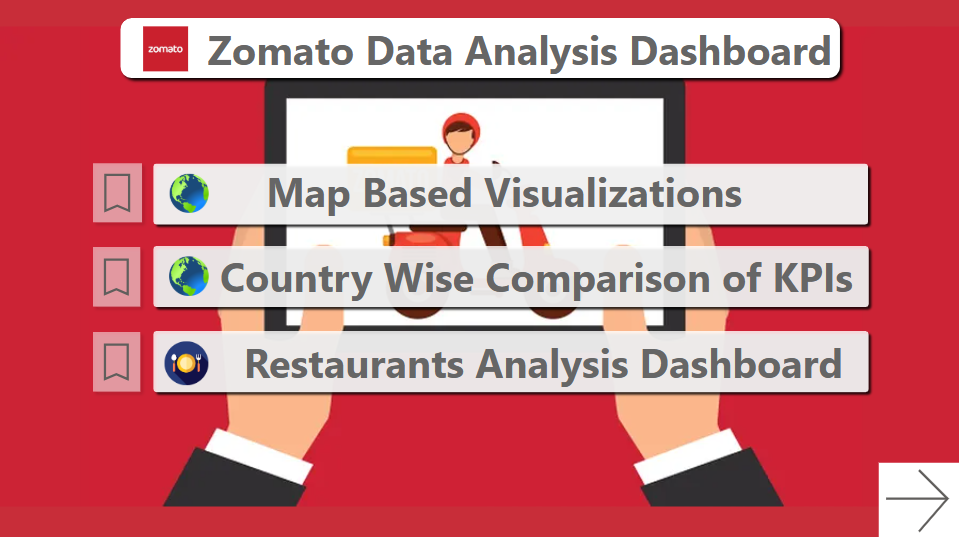

The page's visual inventory and layout, read from the dashboard file:
{"tool":"powerbi","page":{"name":"Main Page","canvas":[1280,720],"ordinal":0},"visuals":[{"type":"group","id":"g1","title":"Group 1","box":[150.9,17.3,977,97.4],"z":0},{"type":"shape","box":[150.9,17.3,977,97.4],"z":0,"group":"g1"},{"type":"group","id":"g2","title":"Group 4","box":[270.3,25.9,853.5,86.4],"z":1000,"group":"g1"},{"type":"shape","box":[196,211.4,968.3,96.7],"z":1000,"group":"g5"},{"type":"shape","box":[196.1,321.1,969.3,96.6],"z":1000,"group":"g4"},{"type":"shape","box":[196.7,435,969.1,96.8],"z":1000,"group":"g3"},{"type":"actionButton","box":[1171.9,618.9,108.4,101.5],"z":1000},{"type":"image","box":[125.7,452,246.7,68.3],"z":1001,"group":"g10"},{"type":"image","box":[168.7,32.4,101.5,70],"z":2000,"group":"g1"},{"type":"group","id":"g3","title":"Group 7","box":[125.7,435,1040.1,96.8],"z":2000},{"type":"actionButton","box":[115.1,435,81,97.4],"z":3000},{"type":"group","id":"g4","title":"Group 5","box":[196.1,321.1,968.8,97.4],"z":4000},{"type":"actionButton","box":[115.1,322.5,81,97.4],"z":5000},{"type":"group","id":"g5","title":"Group 7","box":[196,211.4,968.3,96.7],"z":5001},{"type":"image","box":[216,228.1,71.7,61.7],"z":5002},{"type":"actionButton","box":[115,210,83.3,96.7],"z":5003},{"type":"textbox","box":[270.3,25.9,853.5,86.4],"z":11000,"group":"g2"},{"type":"textbox","box":[349.7,214.4,810.9,86.6],"z":11000,"group":"g6"},{"type":"textbox","box":[286.8,328.2,865.5,81],"z":11000,"group":"g7"},{"type":"textbox","box":[320.2,443.7,823,82.4],"z":11000,"group":"g8"},{"type":"image","box":[215.7,338.1,71.1,62.5],"z":12000,"group":"g7"},{"type":"group","id":"g6","title":"Group 4","box":[349.7,214.4,810.9,86.6],"z":12001,"group":"g9"},{"type":"group","id":"g7","title":"Group 4","box":[215.7,328.2,936.6,81],"z":12001,"group":"g4"},{"type":"group","id":"g8","title":"Group 4","box":[320.2,443.7,822.7,82.4],"z":12001,"group":"g10"},{"type":"group","id":"g9","title":"Group 6","box":[349.7,214.4,810.9,86.6],"z":12002,"group":"g5"},{"type":"group","id":"g10","title":"Group 6","box":[125.7,443.7,1017.2,82.4],"z":12002,"group":"g3"}]}

Visuals, with their boxes in screenshot pixels (x1, y1, x2, y2), scaled from the page's 1280x720 canvas onto the 959x537 screenshot:
"Group 1" group: box(113, 13, 845, 86)
shape: box(113, 13, 845, 86)
"Group 4" group: box(203, 19, 842, 84)
shape: box(147, 158, 872, 230)
shape: box(147, 239, 873, 312)
shape: box(147, 324, 873, 397)
actionButton: box(878, 462, 958, 536)
image: box(94, 337, 279, 388)
image: box(126, 24, 202, 76)
"Group 7" group: box(94, 324, 873, 397)
actionButton: box(86, 324, 147, 397)
"Group 5" group: box(147, 239, 873, 312)
actionButton: box(86, 241, 147, 313)
"Group 7" group: box(147, 158, 872, 230)
image: box(162, 170, 216, 216)
actionButton: box(86, 157, 149, 229)
textbox: box(203, 19, 842, 84)
textbox: box(262, 160, 870, 224)
textbox: box(215, 245, 863, 305)
textbox: box(240, 331, 857, 392)
image: box(162, 252, 215, 299)
"Group 4" group: box(262, 160, 870, 224)
"Group 4" group: box(162, 245, 863, 305)
"Group 4" group: box(240, 331, 856, 392)
"Group 6" group: box(262, 160, 870, 224)
"Group 6" group: box(94, 331, 856, 392)
